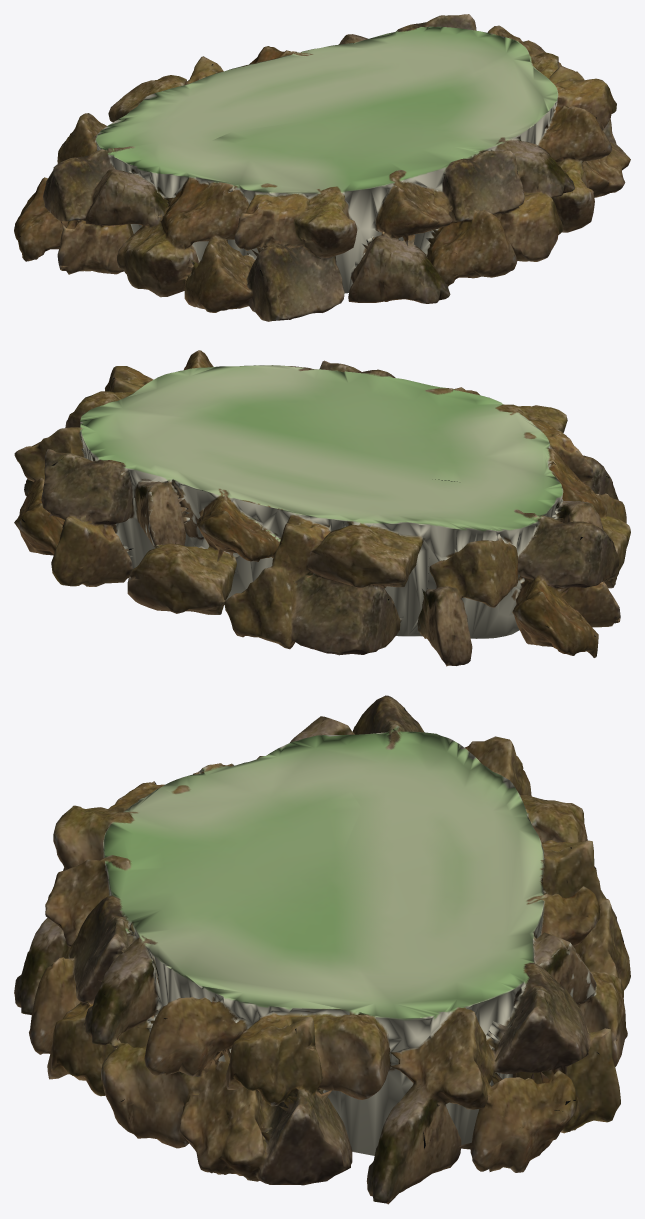
The model's file is continuous_island_v10_1.glb.
3 renders of one model, top to bottom at view 1: azimuth 30°, elevation 25°; view 2: azimuth 150°, elevation 25°; view 3: azimuth 270°, elevation 25°, orthographic. The views are drawn at different scales.
Visible parts, largest first — view 1: Continuous_manifold_weathered_island_2; view 2: Continuous_manifold_weathered_island_2; view 3: Continuous_manifold_weathered_island_2.
Boxes of the visible parts, box(x1,y1,x2,y2) form: Continuous_manifold_weathered_island_2: box(14, 14, 630, 321); Continuous_manifold_weathered_island_2: box(14, 350, 630, 666); Continuous_manifold_weathered_island_2: box(14, 695, 630, 1204).
Size of the model in its own units: 35.6 by 6.88 by 24.32.
Materials: 1 (1 with a texture image).
